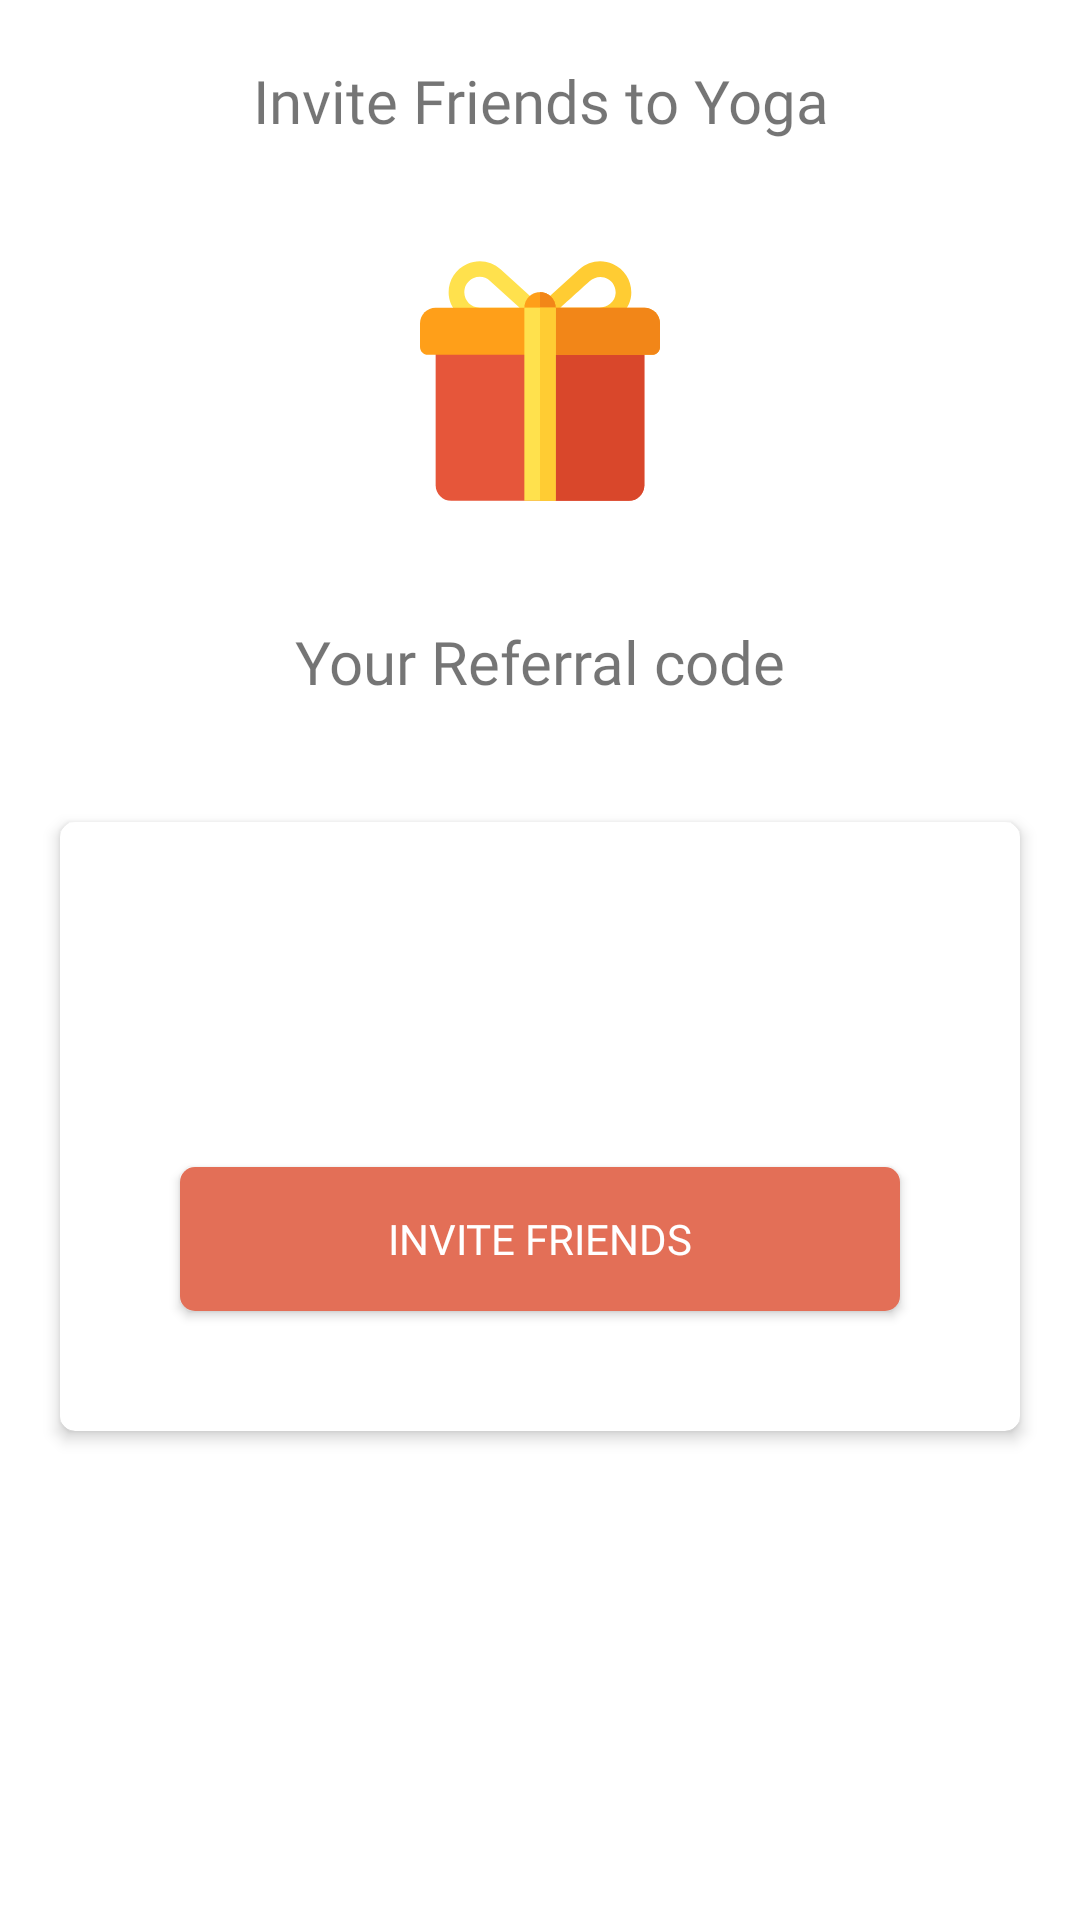

Named icons in this screenshot (1080*1920) and their bounding boxes, (x1, y1, x2, y2):
giftbox: (420, 261, 660, 501)
